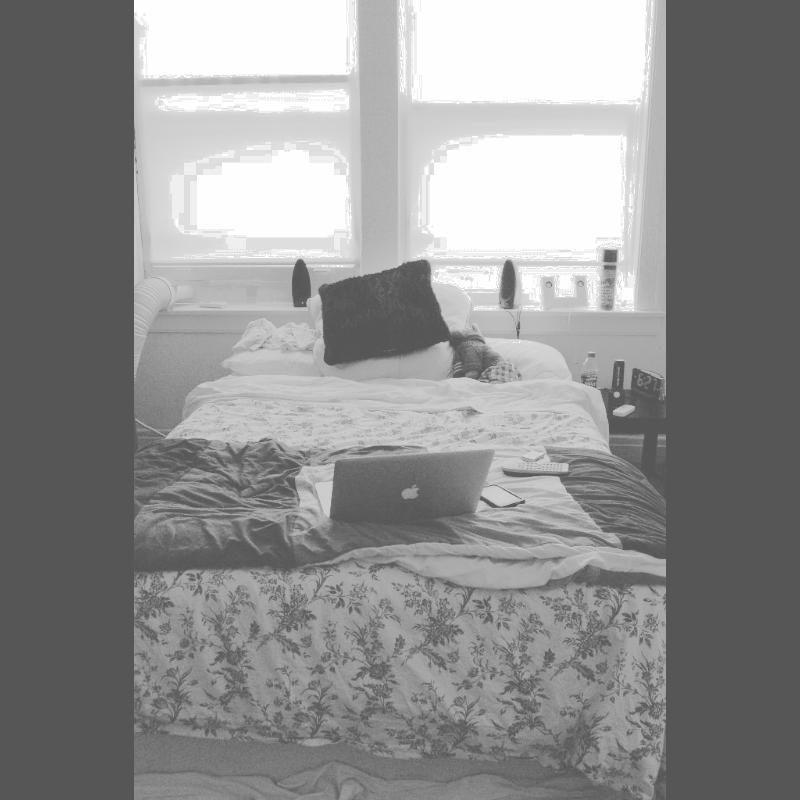pillow: (312, 264, 442, 353)
